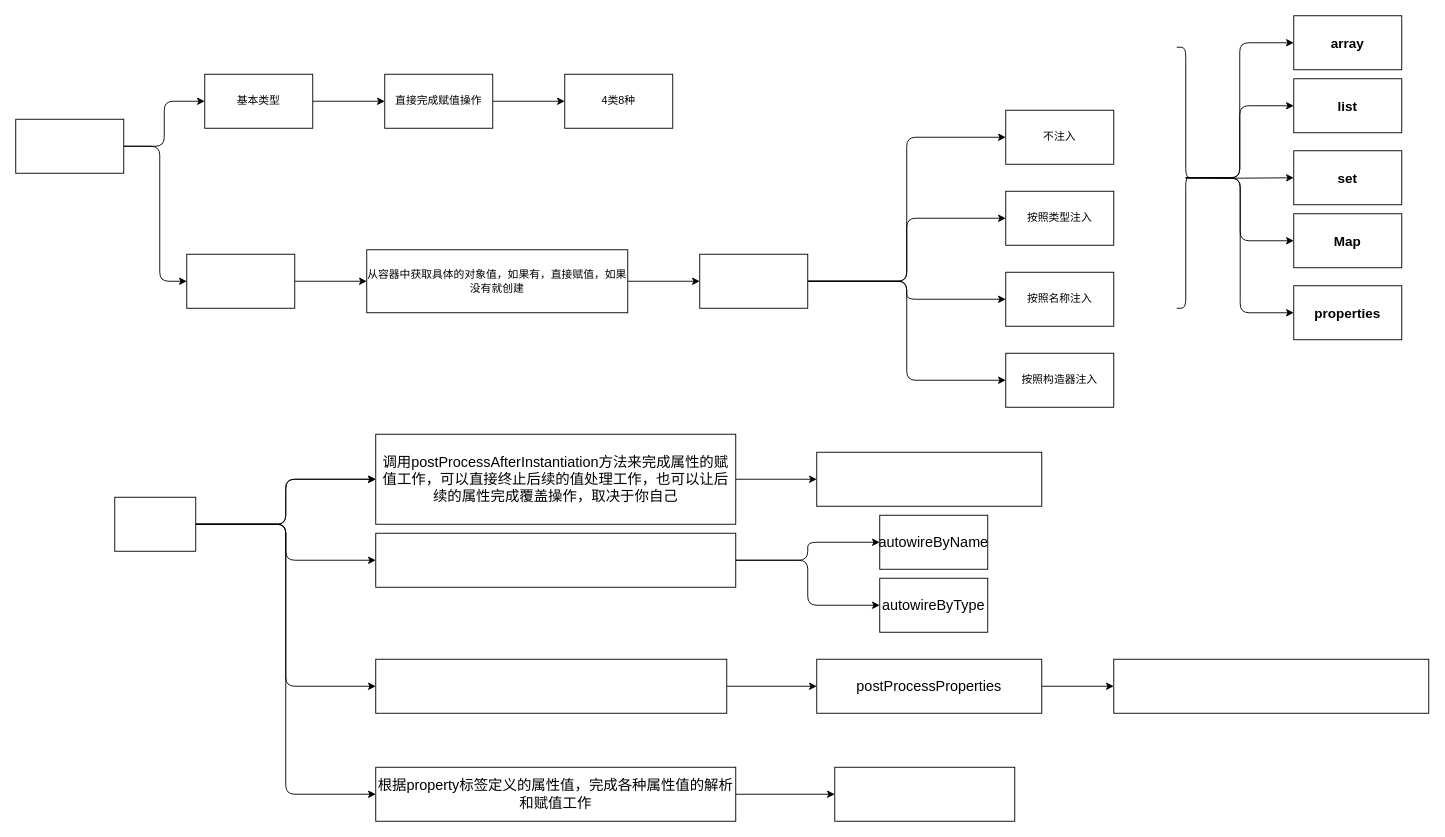
The diagram is 1445 pixels wide and 837 high, and some of its shapes have lost their labels. The shapes that lost their labels are listed below. From the top down, each one's centre as x and y in pixels, then its label:
point (69, 145): 属性分类
point (240, 280): 引用类型
point (753, 280): 注入的方式
point (929, 478): postProcessAfterInstantiation
point (155, 523): populateBean
point (555, 559): 根据配置文件的autowire属性来决定使用名称注入还是类型注入
point (551, 685): 将对象中定义的@Autowired注解进行解析，并完成对象或者属性的注入
point (1271, 685): AutowiredAnnotationBeanPostProcessor
point (924, 793): applyPropertyValues
